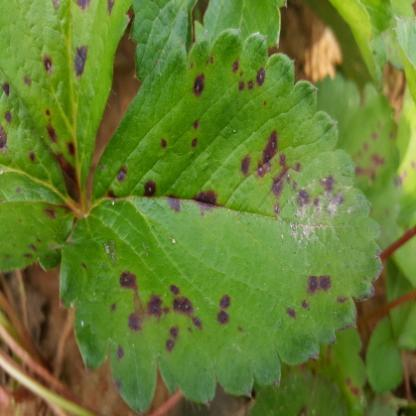Strawberry_Leaf_Spot: (57, 27, 384, 415), (0, 0, 137, 199), (316, 72, 406, 250), (0, 67, 77, 272), (244, 358, 350, 416), (313, 328, 369, 415), (394, 99, 416, 232)
